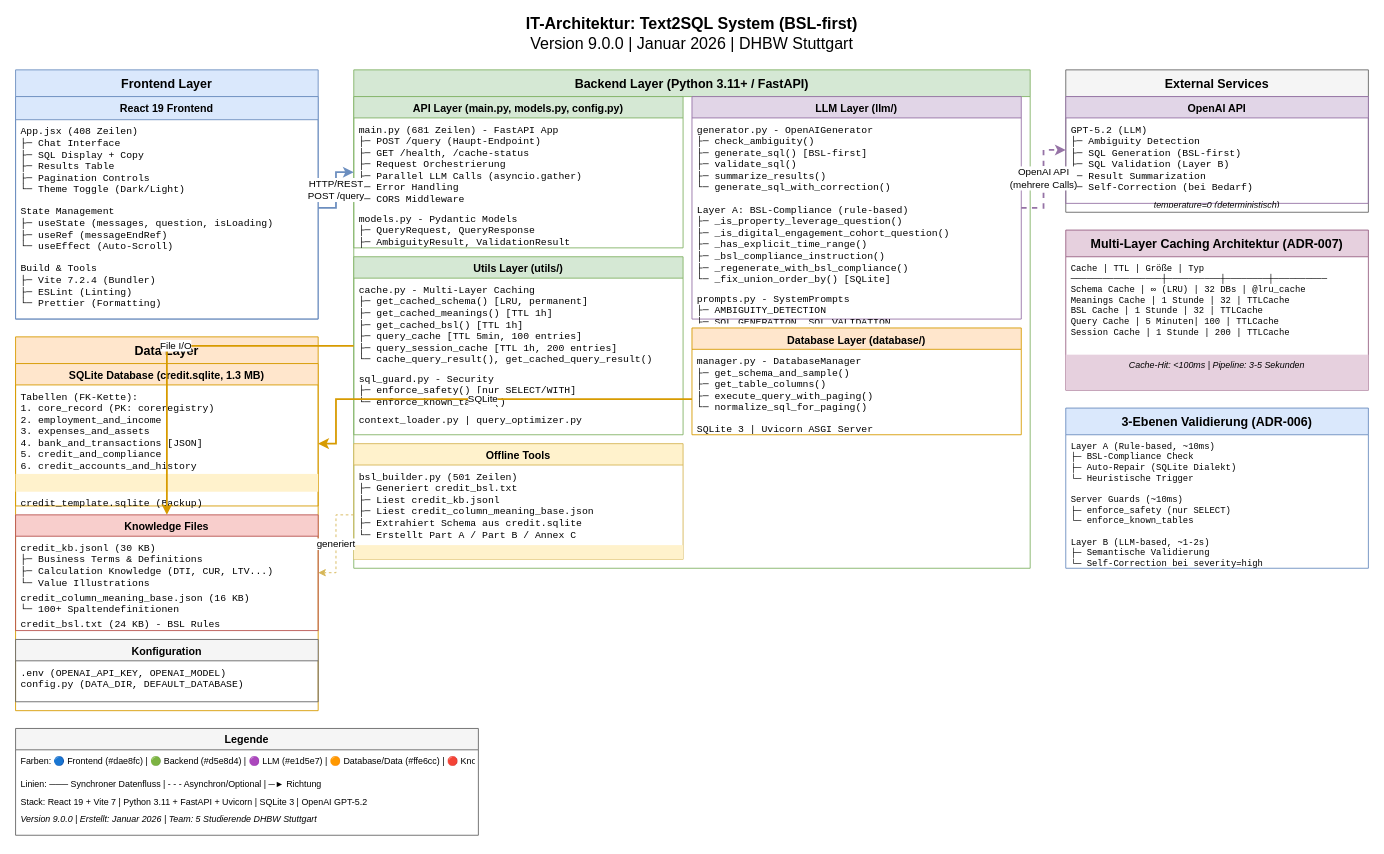
Image size: 1384x854. Some labels were removed from this diagram. The shapes that lost their labels are listed below. From the top down, each one's centre as x and y in pixels, then its label:
point 166,482: ⚠️ Dual-ID: coreregistry (CS) vs clientref (CU)
point 518,552: ⚠️ Nicht Teil des Request-Flows (Build-Time)
